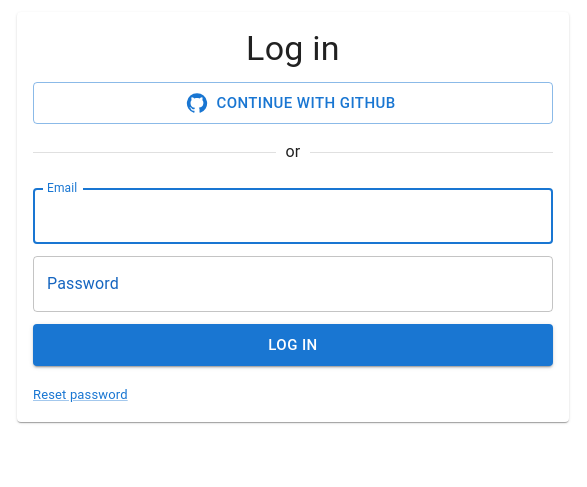
displays error when both email and password fields are empty
// Click the login button
Step 1. Click the button "Log in" → (293, 345), box [33,324,553,366]
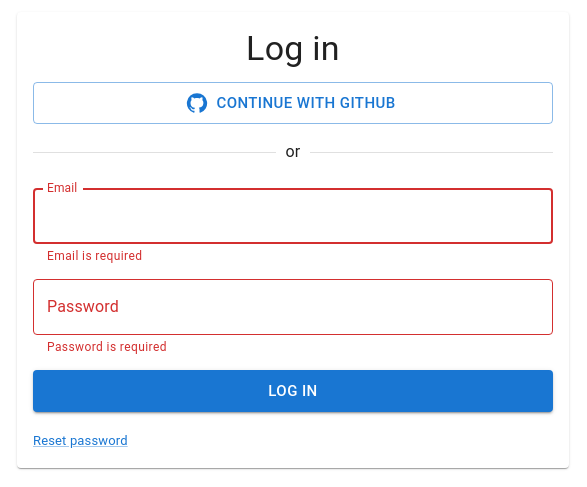
Expected: the button "Log in" is enabled, [33,370,553,412]
Expected: the text "Email is required" is shown, [47,249,142,263]
Expected: the text "Password is required" is shown, [47,340,167,354]
